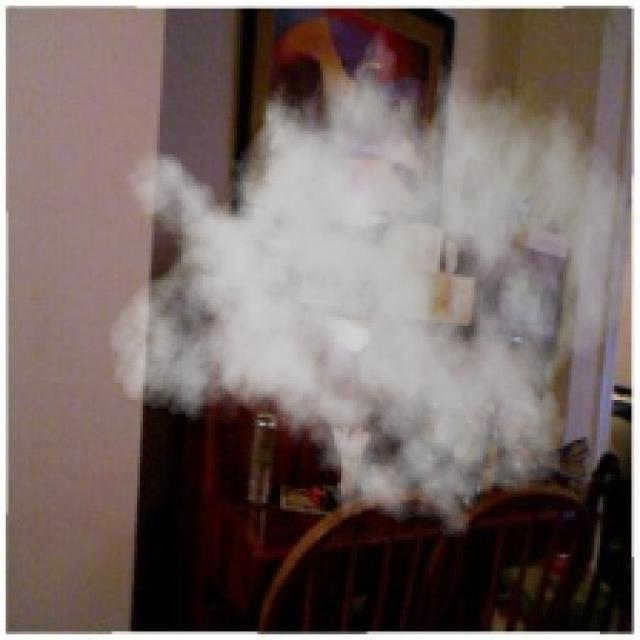smoke: (106, 6, 637, 551)
